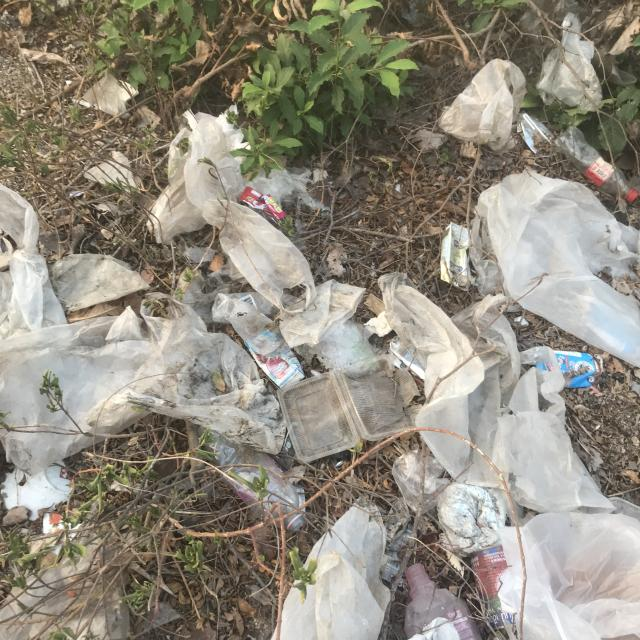Single-layer Plastic: (476, 171, 640, 368), (492, 348, 614, 512), (499, 512, 640, 640), (279, 505, 390, 640), (376, 275, 485, 405), (148, 111, 245, 244), (0, 544, 130, 640), (202, 200, 316, 308), (415, 365, 501, 488), (0, 185, 66, 340), (439, 59, 525, 150), (451, 294, 521, 405), (536, 12, 602, 111), (280, 280, 365, 348), (50, 254, 149, 311), (392, 450, 449, 512), (249, 168, 329, 210), (314, 320, 375, 370), (175, 269, 229, 324), (211, 294, 272, 342), (0, 184, 39, 252), (79, 71, 139, 115), (84, 151, 138, 189)
